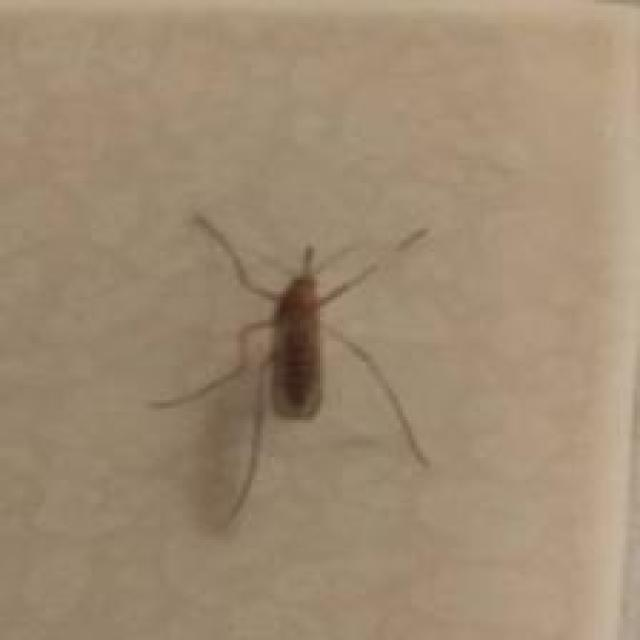Culex: (147, 210, 433, 533)
